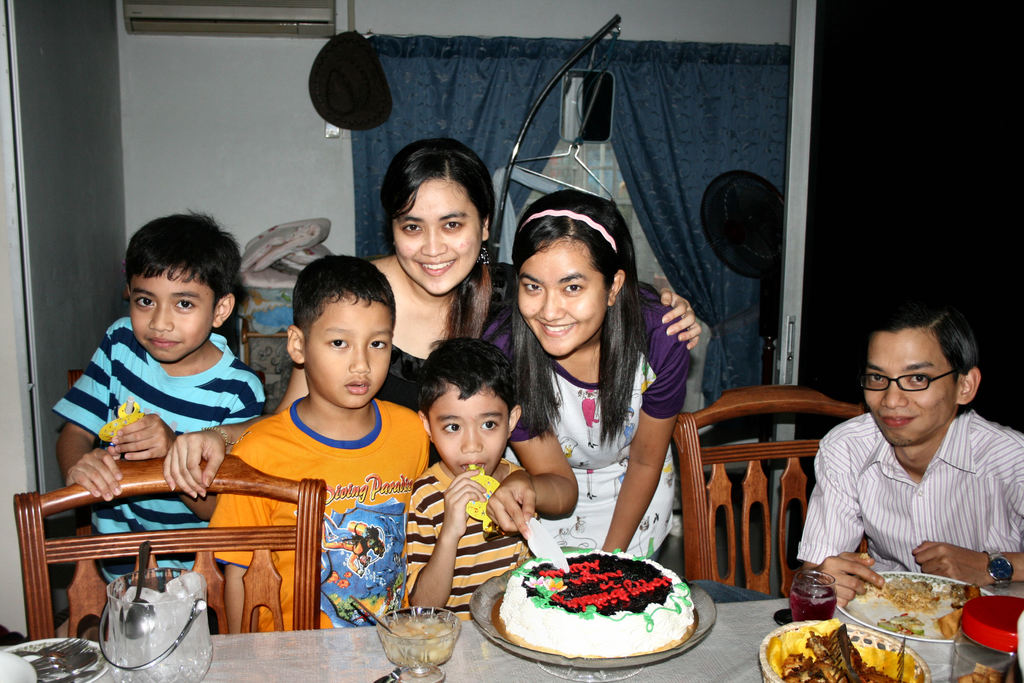cake: (496, 546, 698, 661)
